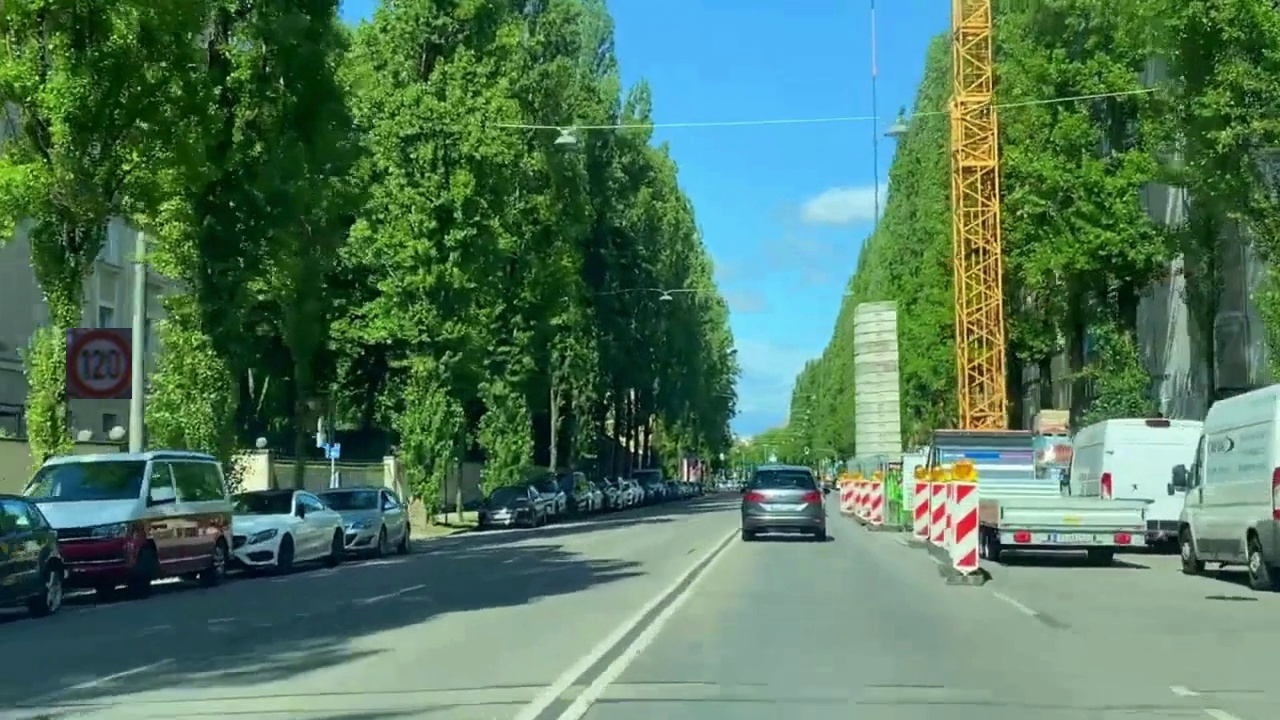Speed 120: (66, 328, 132, 399)
